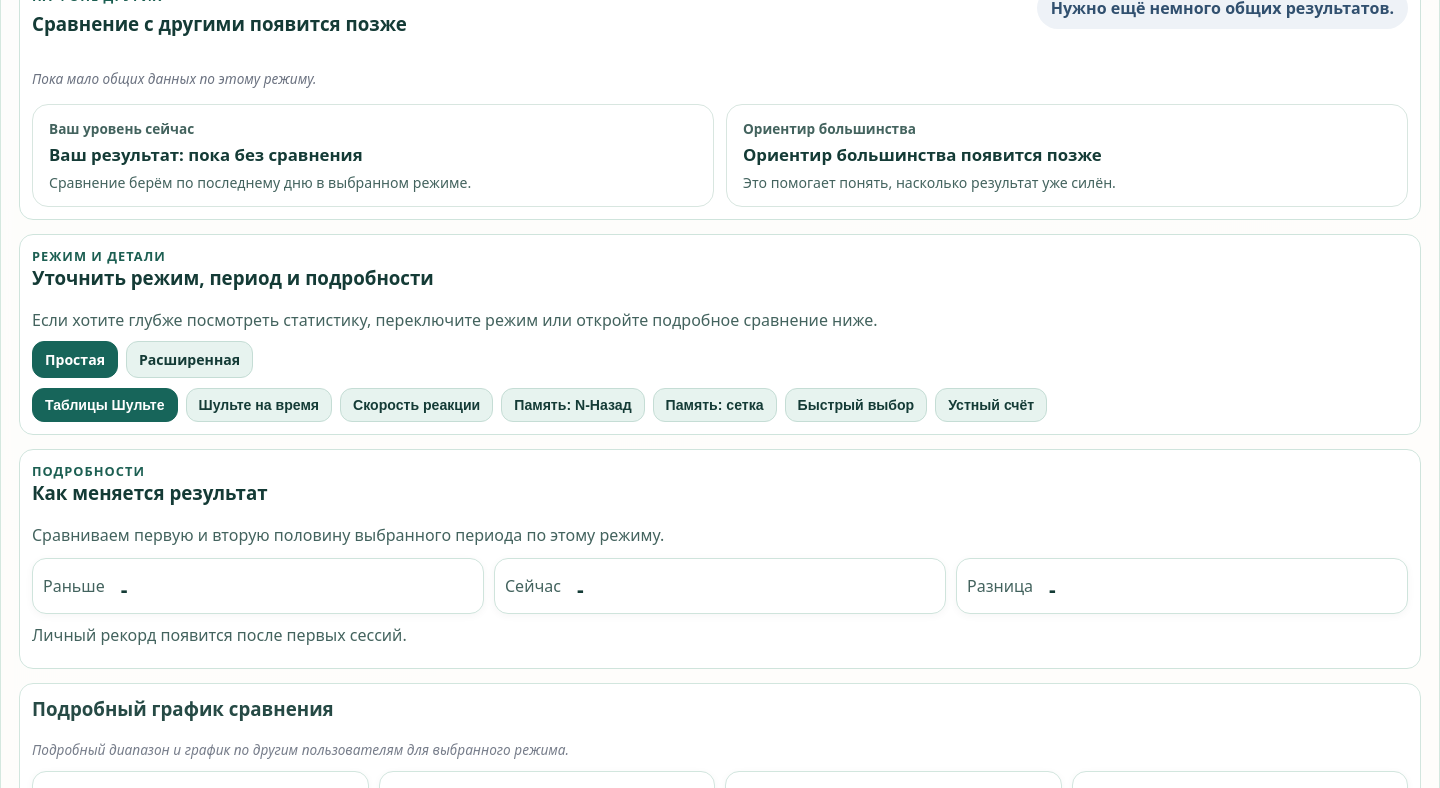
Test: StatsPage sprint filters › shows plain-language peer comparison near the top of the page
(page scrolled)
Click the button with test id "stats-mode-sprint". click: (991, 405)
box: [935, 388, 1047, 422]
(page scrolled)
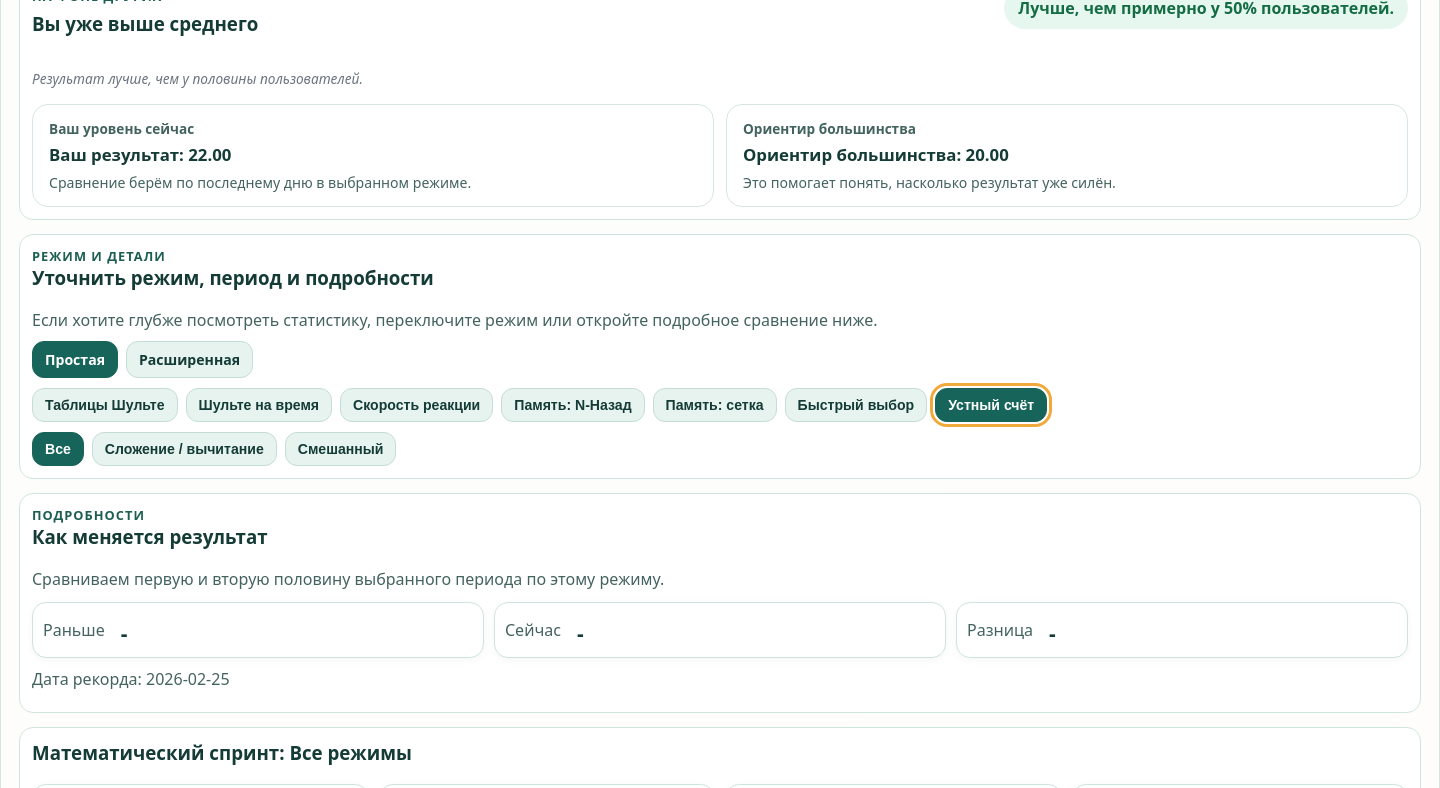
Expected: the element with test id "stats-compare-plain" shows "Вы уже выше среднего", [32, 11, 258, 36]
Expected: the element with test id "stats-compare-plain-user" shows "Ваш результат: 22.00", [49, 143, 231, 166]
Expected: the element with test id "stats-compare-plain-majority" shows "Ориентир большинства: 20.00", [743, 143, 1009, 166]
